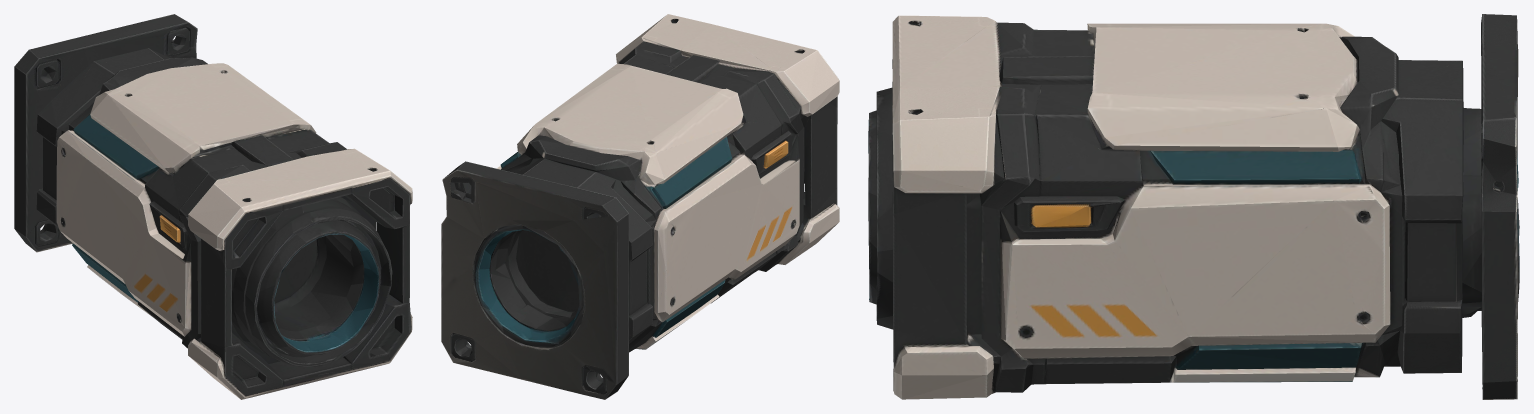
The model's file is Thruster.fbx.
The picture shows the model from 3 angles, left to right: view 1: azimuth 30°, elevation 25°; view 2: azimuth 150°, elevation 25°; view 3: azimuth 270°, elevation 25°; orthographic projection. The views are drawn at different scales.
Parts seen in each view (by area): view 1: Thruster_Geometry; view 2: Thruster_Geometry; view 3: Thruster_Geometry.
Part boxes in pixels (x1,y1,x2,y2): Thruster_Geometry: [14, 14, 412, 399]; Thruster_Geometry: [441, 14, 839, 399]; Thruster_Geometry: [868, 14, 1519, 399].
Size of the model in its own units: 100 by 100 by 200.
1 material, 1 textured.
